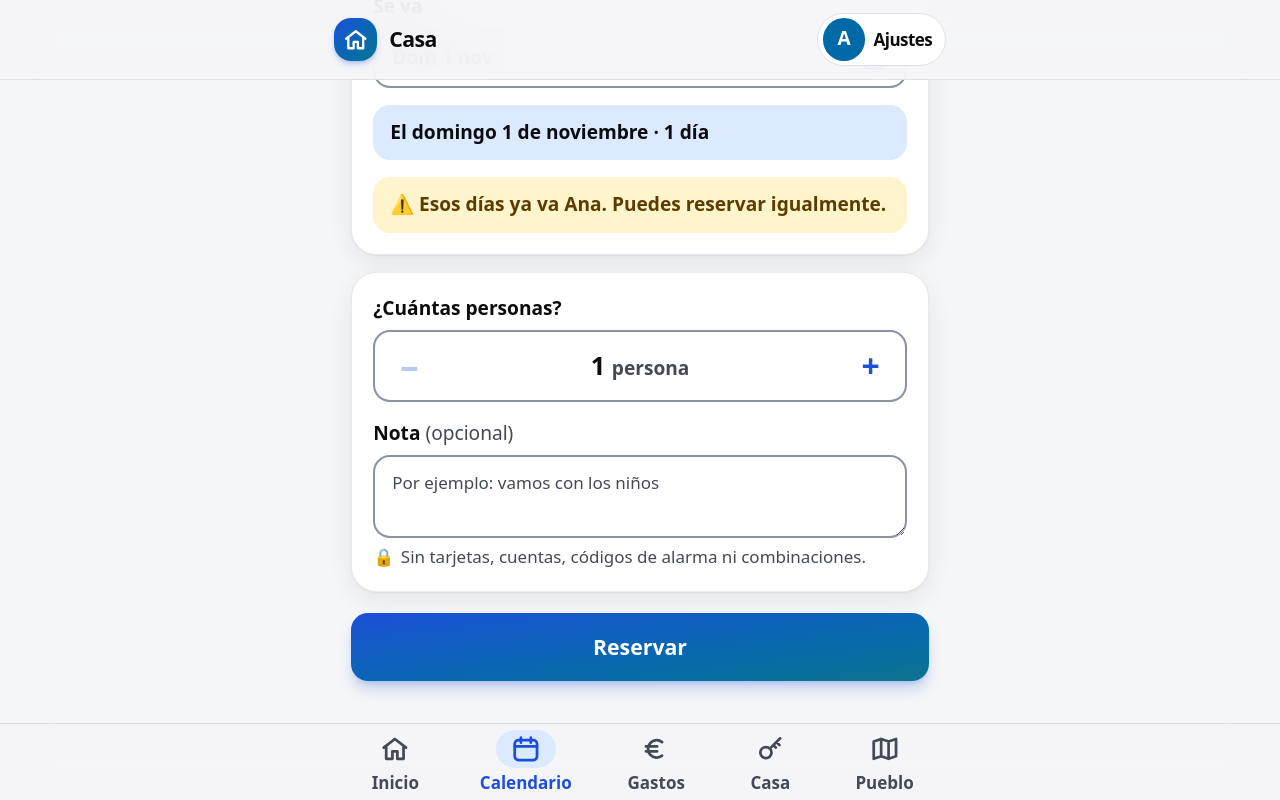
Scenario: calendario › reservar avisa del solape pero deja guardar igualmente
The image size is (1280, 800).
(page scrolled)
Expected: the text "⚠️ Esos días ya va Ana. Puedes reservar igualmente." is shown, [373,177,907,233]
Click the button named "Añadir uno" at (871,366), box [841,336,900,396]
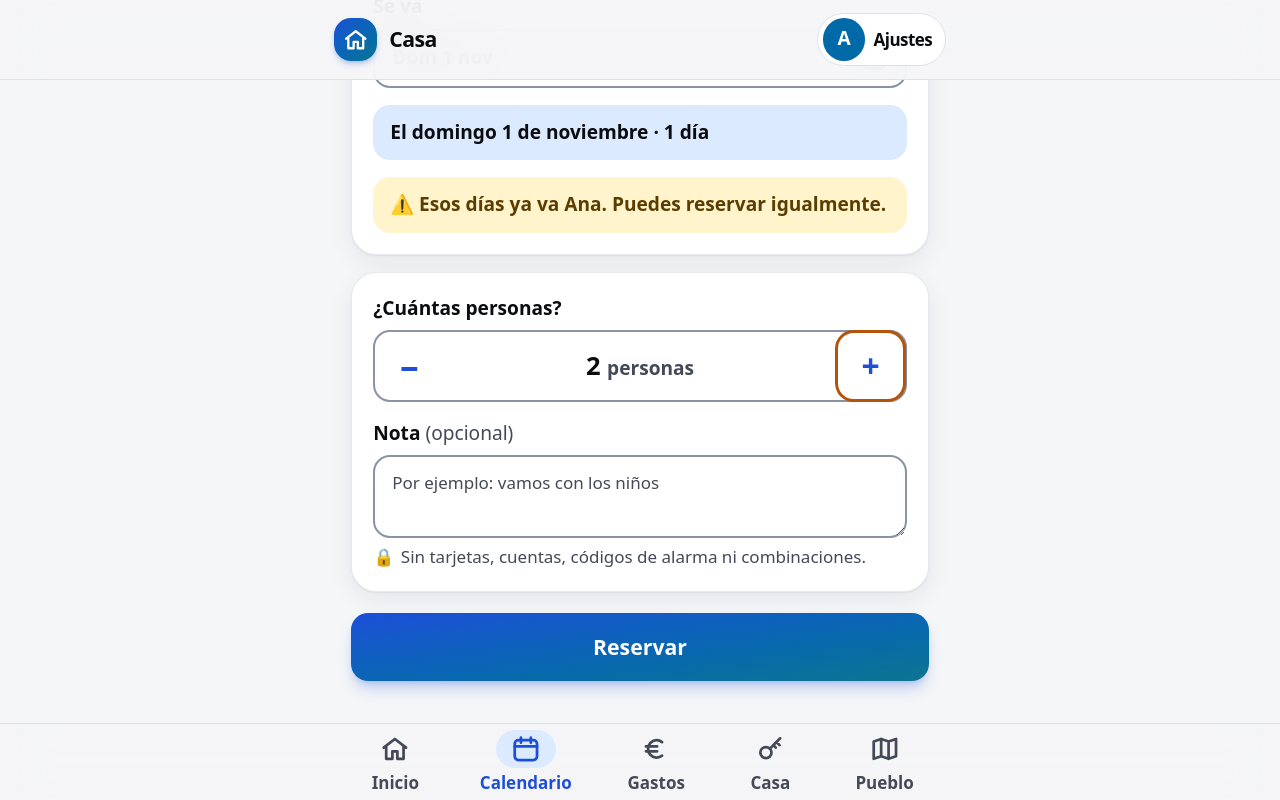
Click the button "Reservar" at (640,647), box [351,613,929,681]
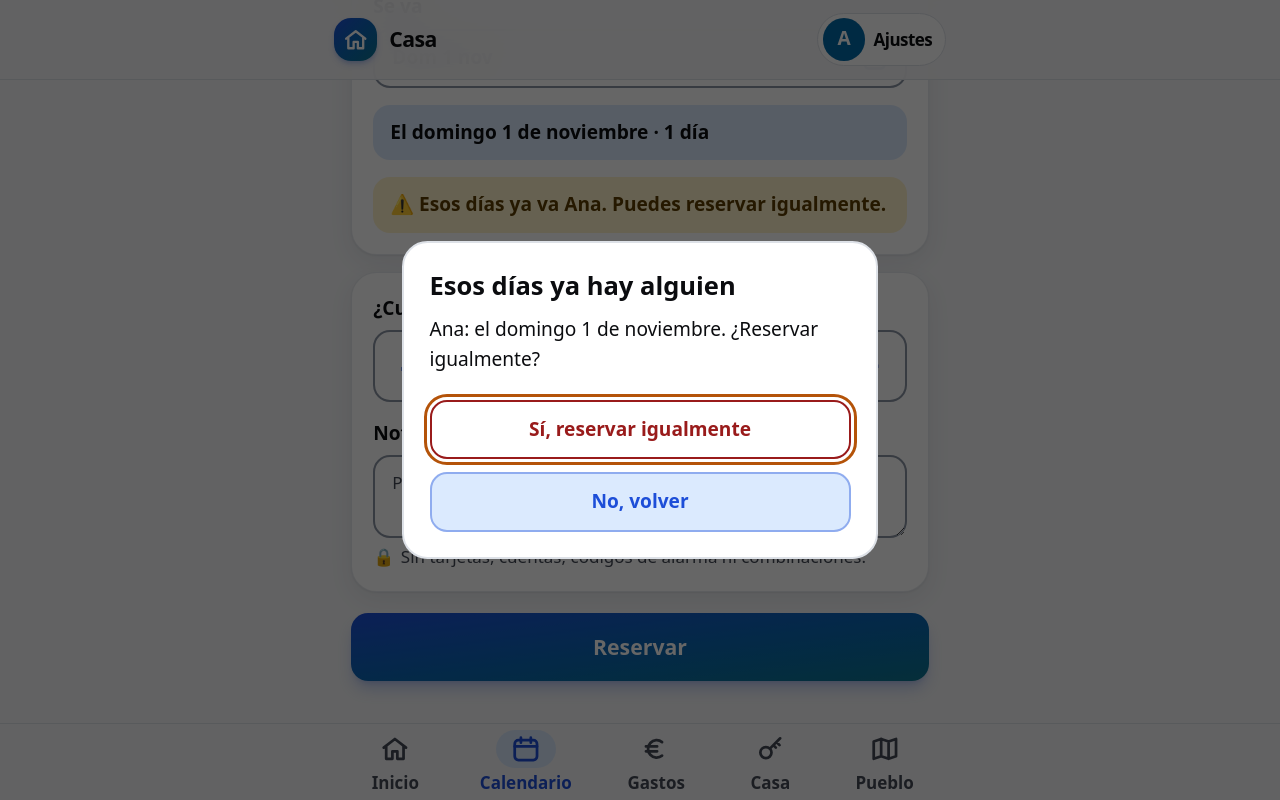
Click the button "Sí, reservar igualmente" at (640,430), box [430,400,850,460]
(page scrolled)
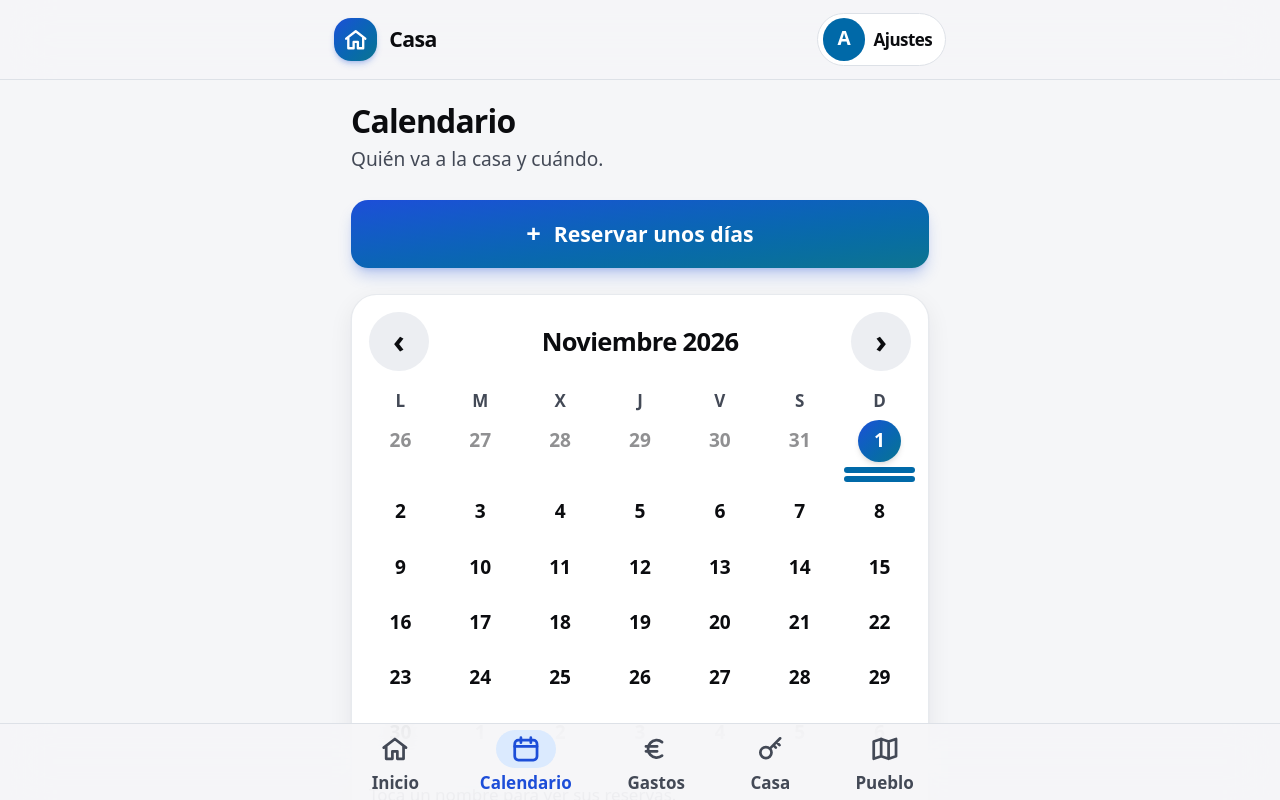
Now the heading "Calendario" is shown, box [351,99,515,142]
